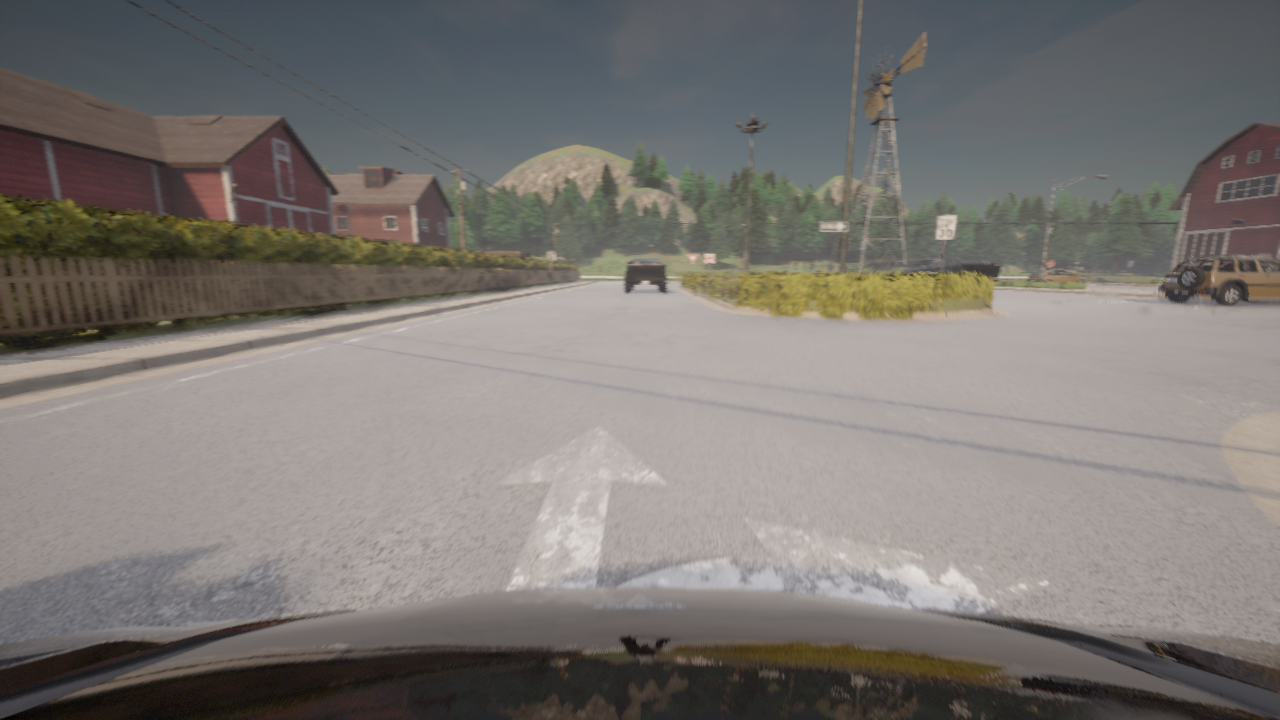cyclist: (0, 588, 1279, 719), (1158, 255, 1279, 305), (901, 258, 1002, 282), (624, 258, 666, 293), (1027, 270, 1087, 284), (738, 270, 760, 272)
pedestrian: (835, 265, 838, 272)
